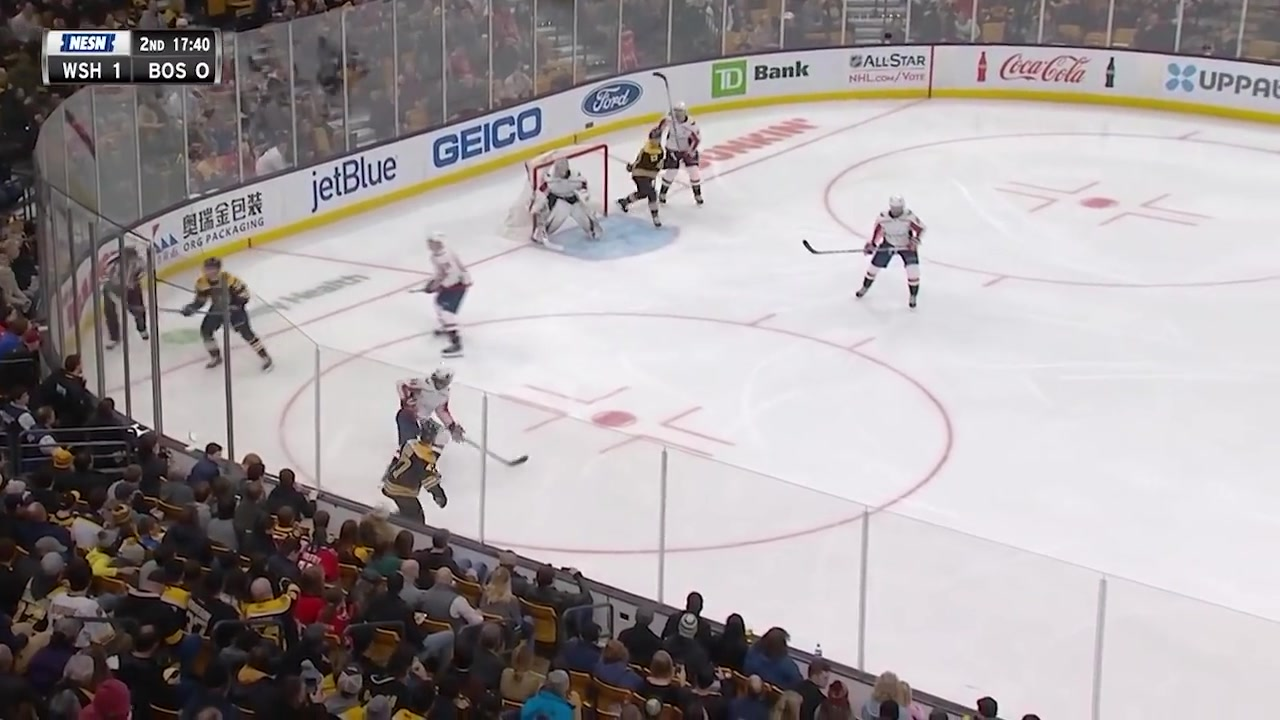Geico: (433, 109, 557, 164)
